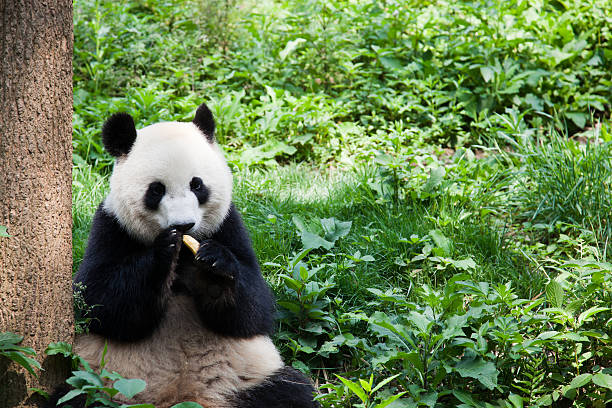panda: (87, 95, 240, 260)
